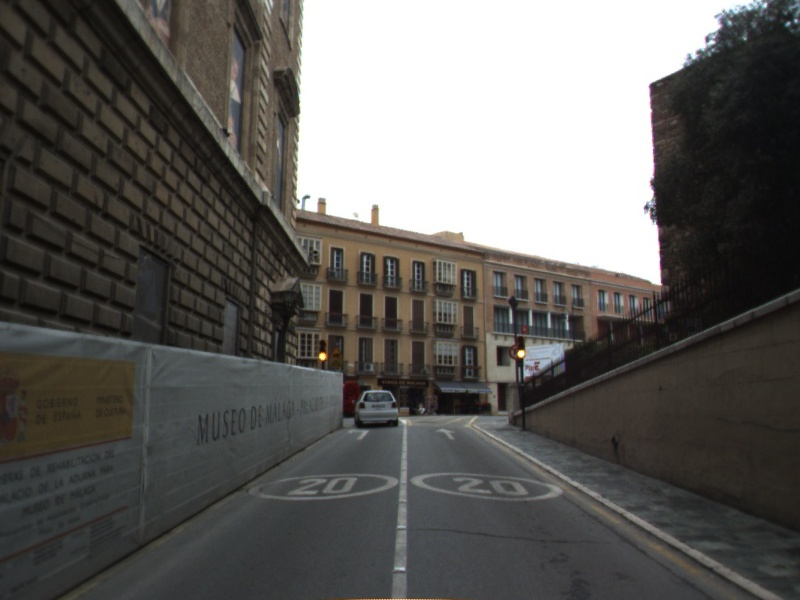LEFT: (345, 426, 372, 442)
STRAIGHT: (434, 425, 459, 441)
